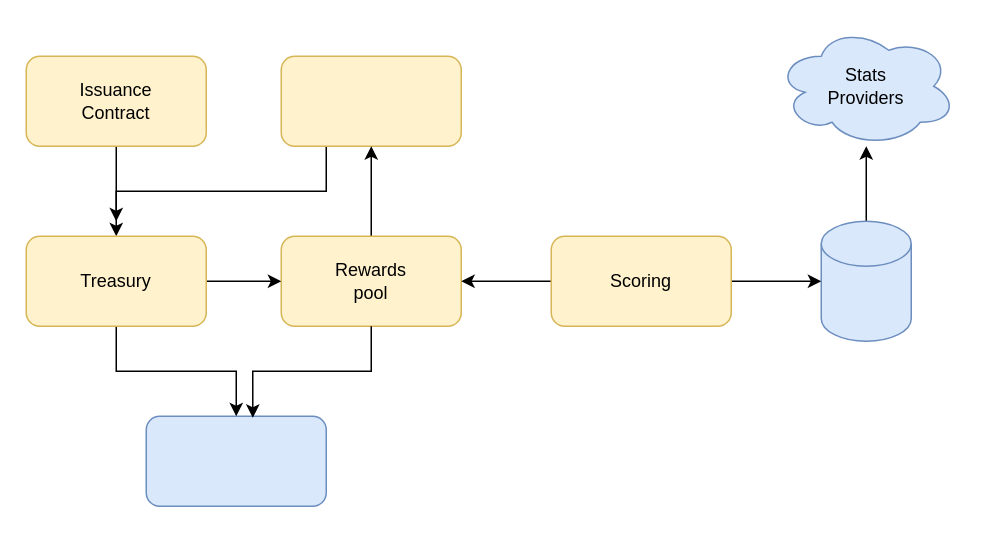
The diagram is 983 pixels wide and 533 high, and some of its shapes have lost their labels. Here are the shapes that lost their labels. From the top down, the centre of each, then its label:
At point (370, 100): "Token Vault".
At point (865, 280): "Oracle".
At point (235, 460): "DEX".
